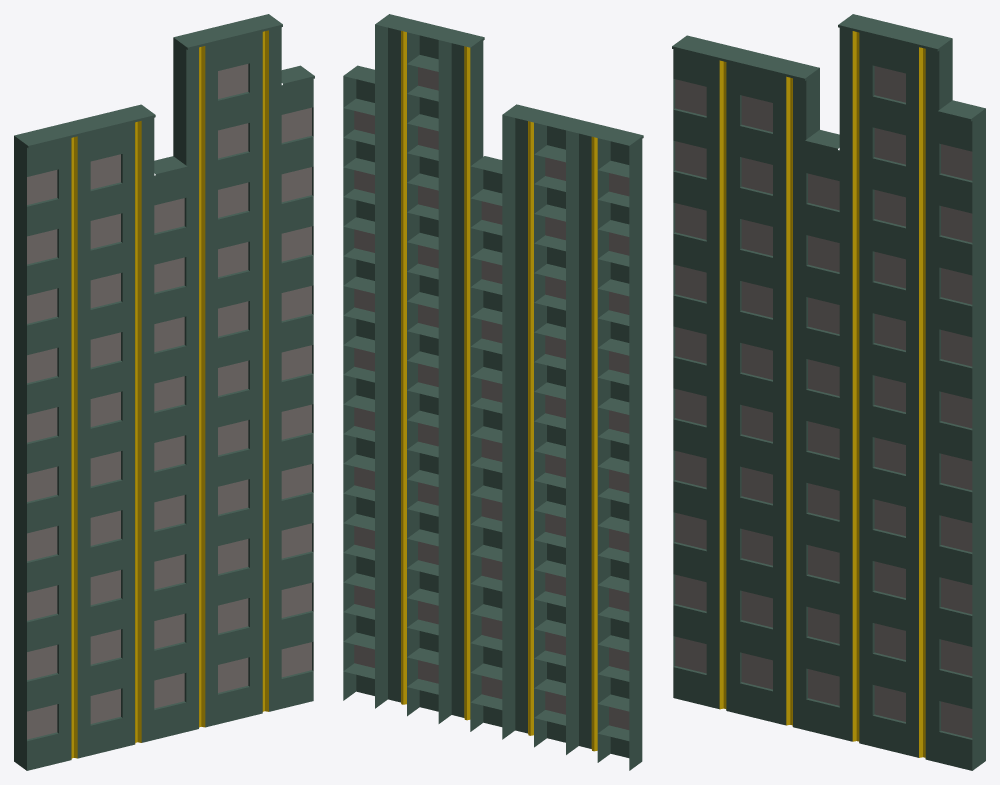
The picture shows the model from 3 angles, left to right: view 1: azimuth 30°, elevation 25°; view 2: azimuth 150°, elevation 25°; view 3: azimuth 330°, elevation 25°; orthographic projection. The views are drawn at different scales.
Parts seen in each view (by area): view 1: Edificio.004; view 2: Edificio.004; view 3: Edificio.004.
Boxes of the visible parts, x1=… form: Edificio.004: x1=14, y1=14, x2=314, y2=770; Edificio.004: x1=343, y1=14, x2=643, y2=770; Edificio.004: x1=672, y1=14, x2=985, y2=770.
Bounding box in the file's own units: 2506 × 5726 × 217.
